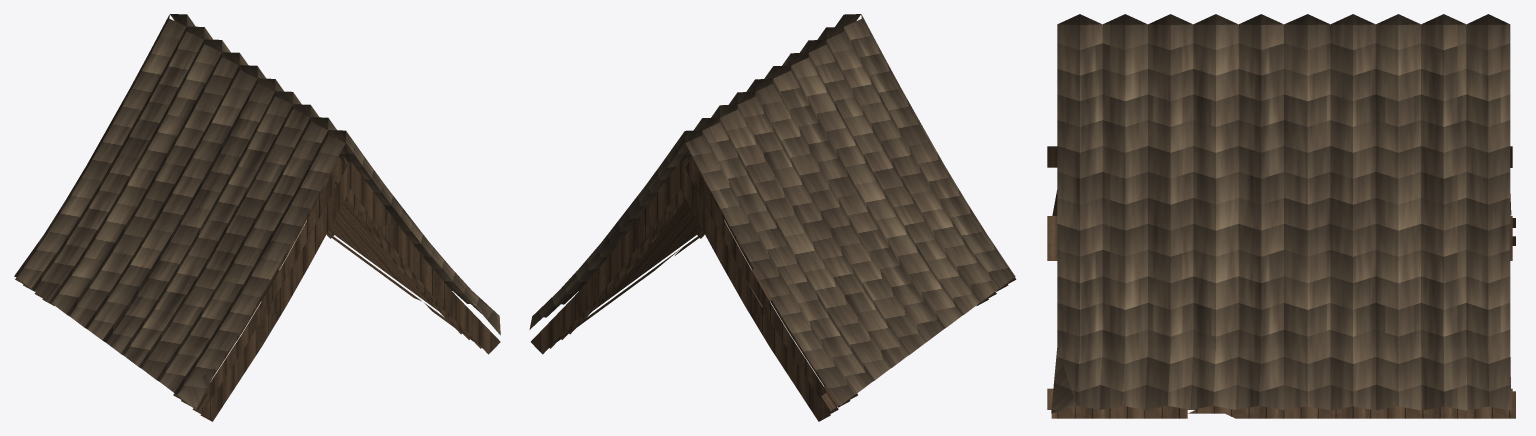
File: Roof_Shingle_4x4_LOD1.gltf
3 views of the same model, side by side, from view 1: azimuth 30°, elevation 25°; view 2: azimuth 150°, elevation 25°; view 3: azimuth 270°, elevation 25° (orthographic). The views are drawn at different scales.
Parts seen in each view (by area): view 1: Roof_Shingle_4x4_LOD1; view 2: Roof_Shingle_4x4_LOD1; view 3: Roof_Shingle_4x4_LOD1.
Part boxes in pixels (x1=…): Roof_Shingle_4x4_LOD1: x1=14, y1=14, x2=500, y2=421; Roof_Shingle_4x4_LOD1: x1=529, y1=14, x2=1016, y2=421; Roof_Shingle_4x4_LOD1: x1=1047, y1=14, x2=1515, y2=418.
Size of the model in its own units: 5.51 by 4.01 by 5.49.
Materials: 2 (2 with a texture image).
